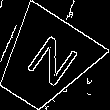N_SW: (13, 30, 77, 93)
